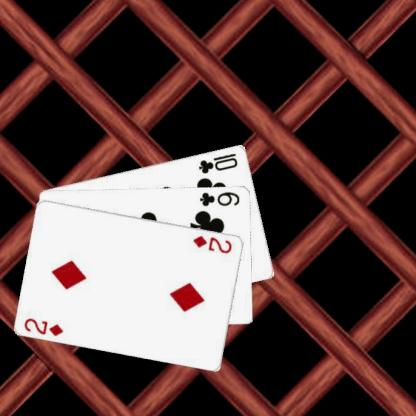10C: (196, 150, 239, 174)
2D: (190, 233, 233, 255), (22, 316, 64, 338)
6C: (198, 188, 241, 207)
